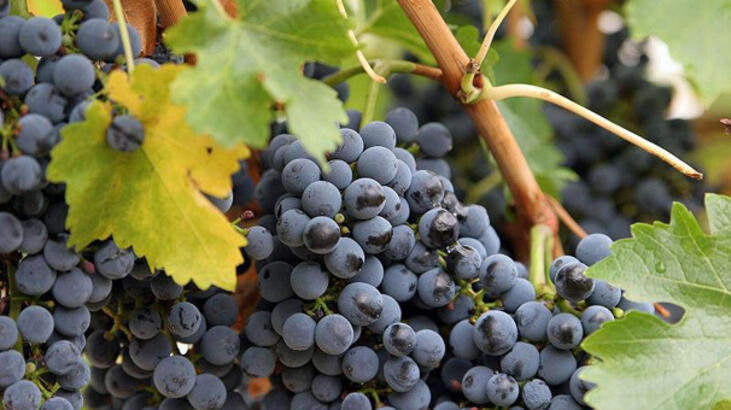Grape: (274, 158, 580, 410), (341, 177, 386, 226), (357, 149, 399, 190), (303, 215, 339, 260)
